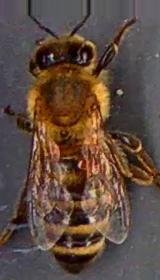varroa_mite: (74, 153, 92, 175)
